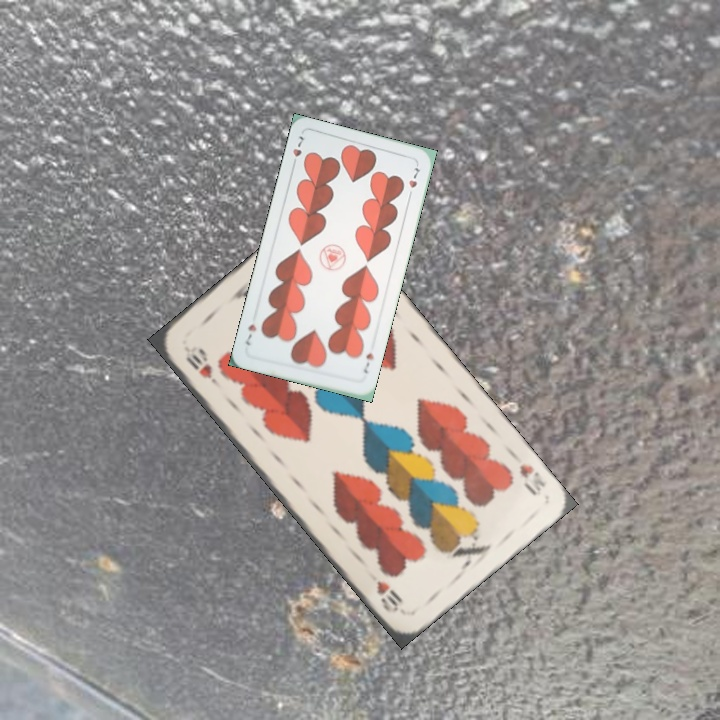H10: (181, 349, 223, 390), (515, 460, 549, 499)
H7: (288, 131, 306, 170), (359, 349, 376, 376)
